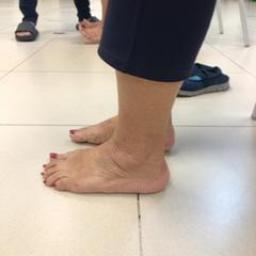Lateral View -Left Foot-: (26, 121, 192, 212)
